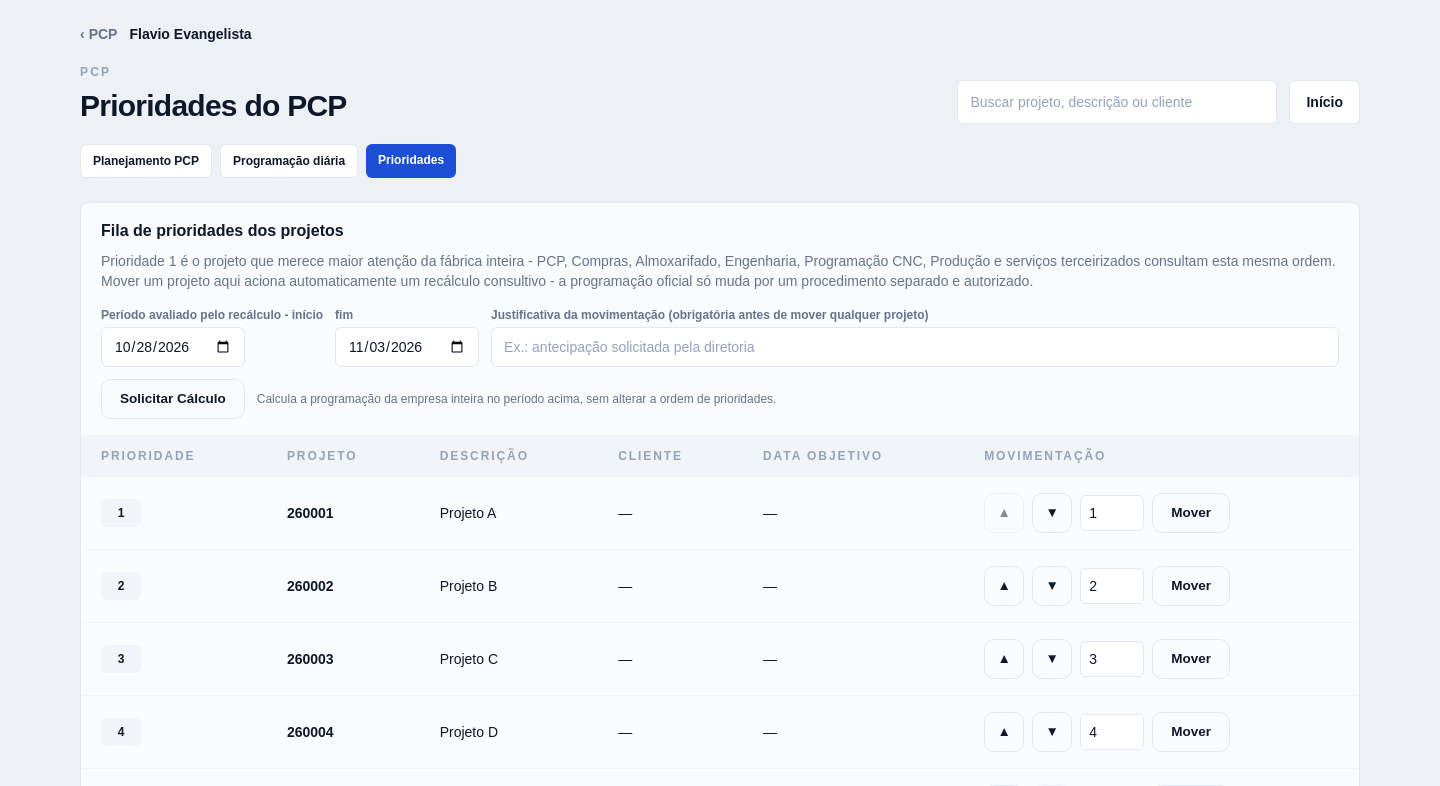
PrioridadesPcpPage - componente › reserva ocupada por outro usuário: mensagem específica, NUNCA aparenta que a movimentação foi realizada
This screenshot has width=1440, height=786.
In the field labelled "Justificativa da movimentação": (915, 347) [491,327,1339,367], type "justificativa de teste"
(page scrolled)
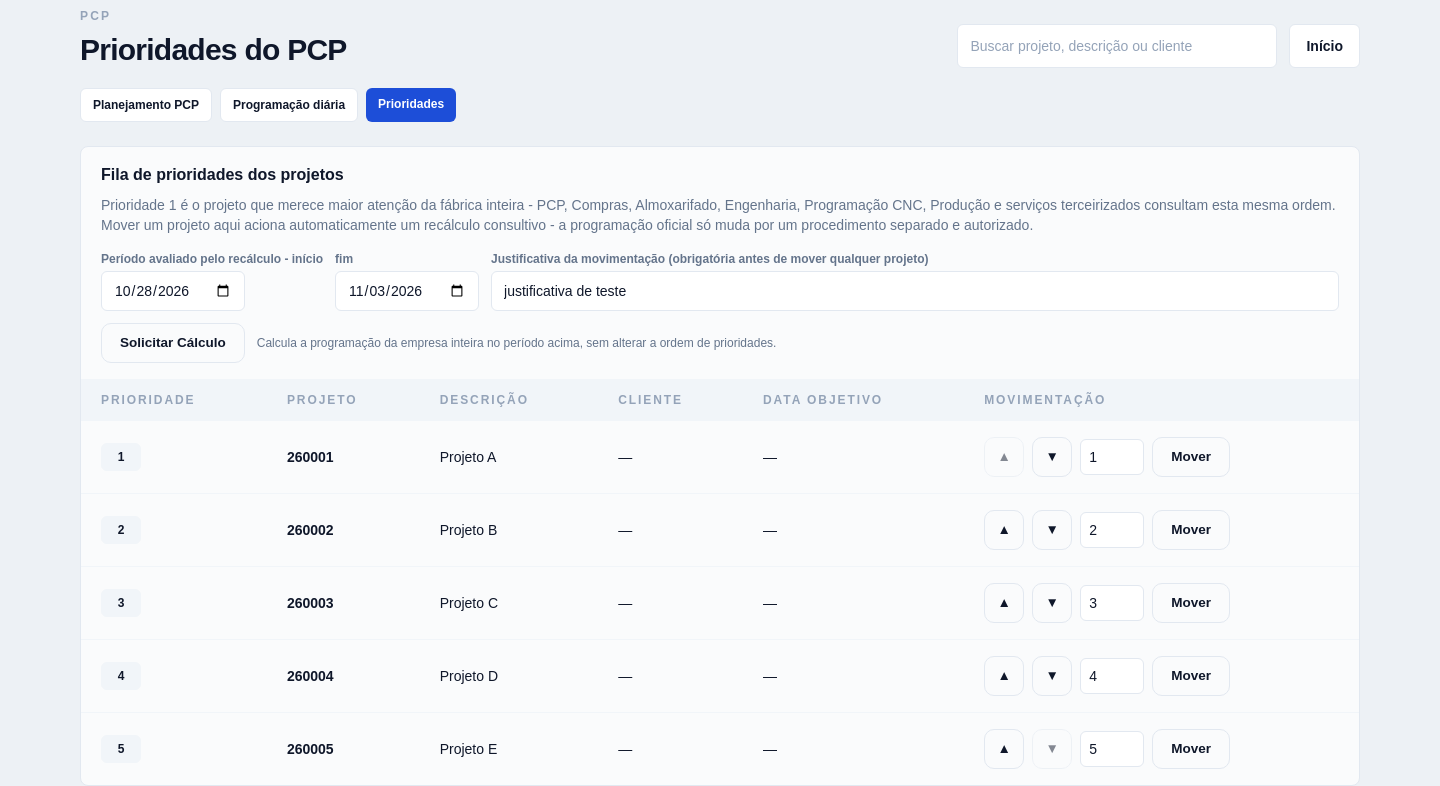
Click the button named "Subir prioridade do projeto 260005": (1004, 749) [984,729,1024,769]
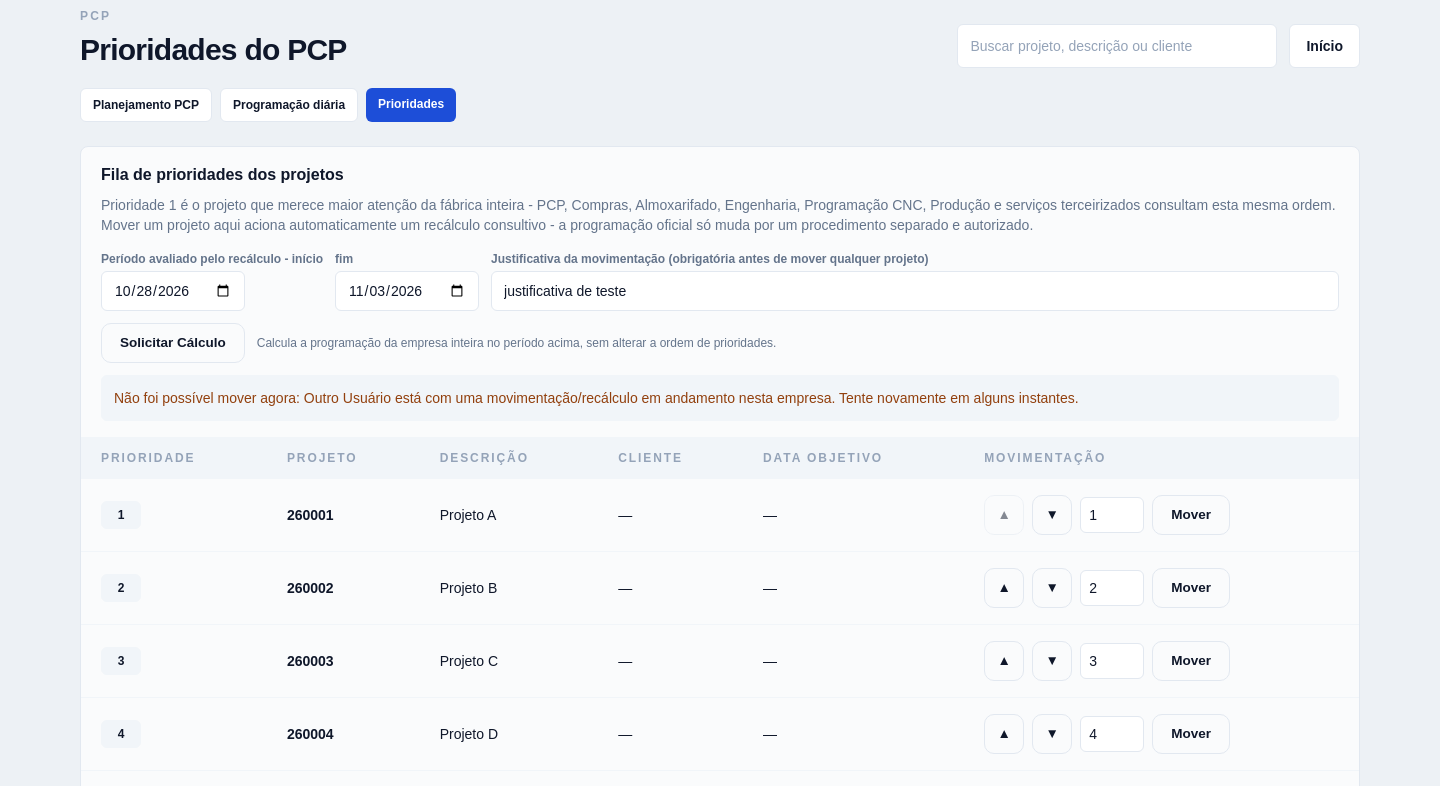
Check: the text "Outro Usuário está com uma movimentação" is shown, box [114,390,1079,406]
